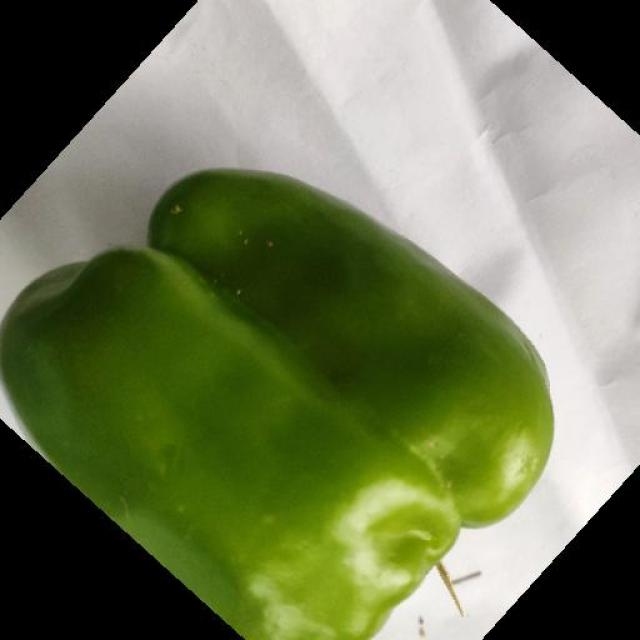Fresh_Capsicum: (35, 176, 523, 640)
